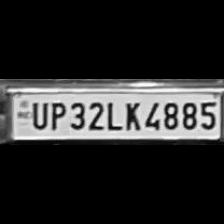2: (86, 98, 104, 132)
3: (66, 97, 86, 130)
4: (142, 97, 160, 130)
5: (197, 97, 217, 130)
8: (160, 99, 178, 131), (179, 99, 197, 131)
K: (120, 98, 142, 132)
L: (104, 99, 122, 131)
P: (46, 99, 66, 131)
U: (27, 98, 47, 130)
